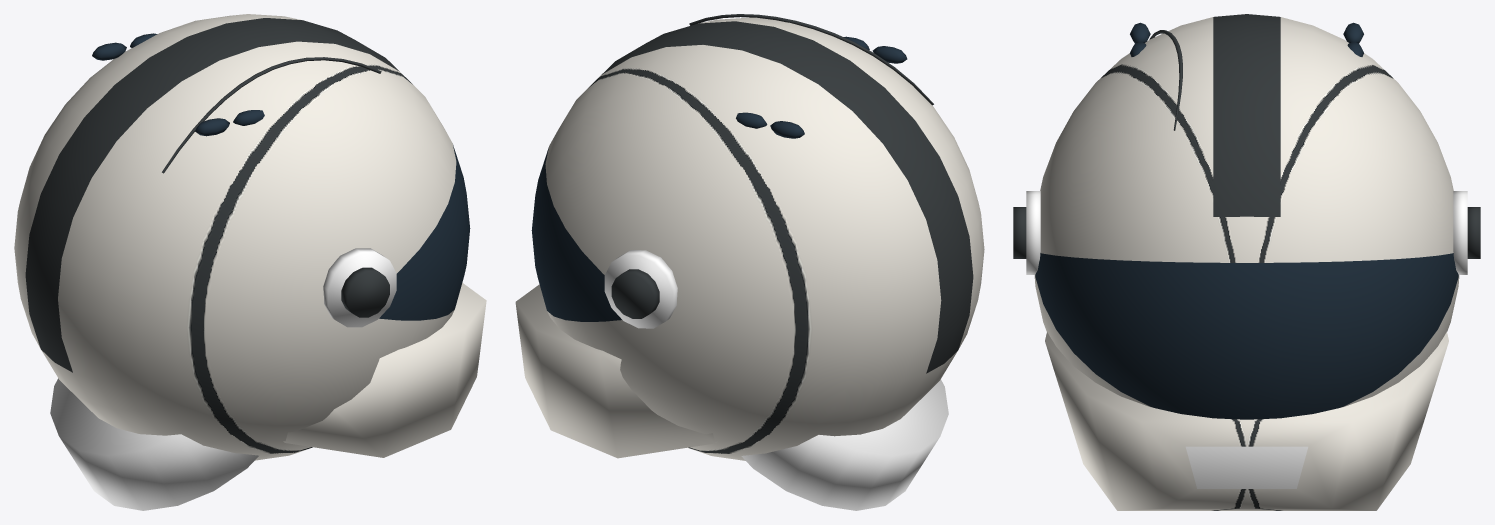
File: Helmet_04_N_白鉛・細墨.glb
3 views of the same model, side by side, from view 1: azimuth 30°, elevation 25°; view 2: azimuth 150°, elevation 25°; view 3: azimuth 270°, elevation 25° (orthographic). The views are drawn at different scales.
Parts seen in each view (by area): view 1: Helmet_04_N, Visor; view 2: Helmet_04_N, Visor; view 3: Helmet_04_N, Visor.
Part boxes in pixels (left/top/right/bottom): Helmet_04_N: left=14, top=14, right=486, bottom=510; Visor: left=92, top=33, right=470, bottom=320; Helmet_04_N: left=515, top=14, right=984, bottom=510; Visor: left=531, top=36, right=907, bottom=321; Helmet_04_N: left=1013, top=14, right=1480, bottom=510; Visor: left=1035, top=22, right=1458, bottom=419.
Size of the model in its own units: 0.301 by 0.305 by 0.289.
3 materials, 3 textured.
